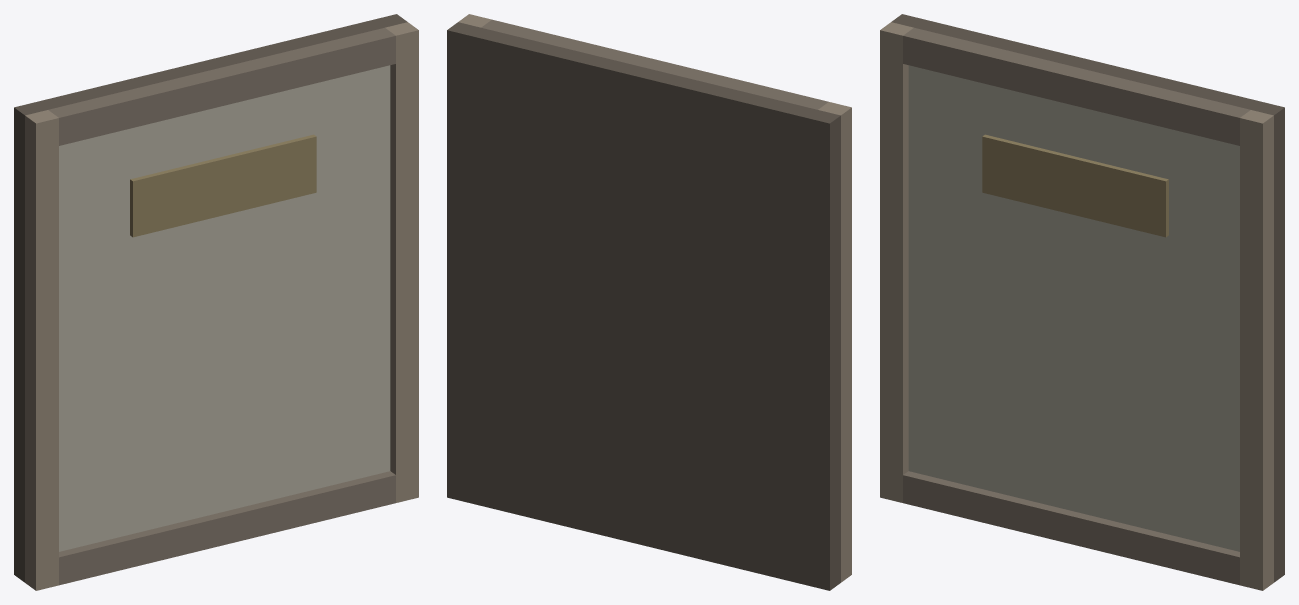
The model's file is memorial_board.glb.
3 renders of one model, left to right at view 1: azimuth 30°, elevation 25°; view 2: azimuth 150°, elevation 25°; view 3: azimuth 330°, elevation 25°, orthographic.
Visible parts, largest first — view 1: memorial_board; view 2: memorial_board; view 3: memorial_board.
Part boxes in pixels (x1,y1,x2,y2): memorial_board: (14, 14, 418, 590); memorial_board: (447, 14, 851, 590); memorial_board: (880, 14, 1284, 590).
Size of the model in its own units: 0.6 by 0.7 by 0.06.
